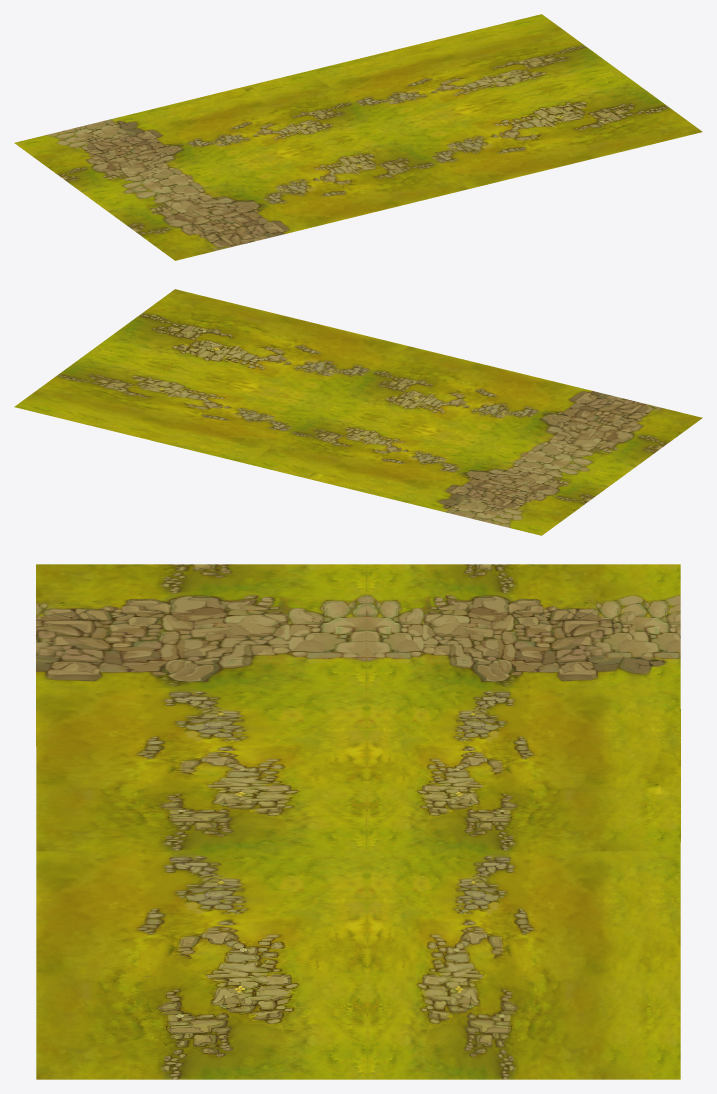
The model's file is sences_changbanpo_daolu001.FBX.
The picture shows the model from 3 angles, top to bottom: view 1: azimuth 30°, elevation 25°; view 2: azimuth 150°, elevation 25°; view 3: azimuth 270°, elevation 25°; orthographic projection. The views are drawn at different scales.
Visible parts, largest first — view 1: sences_changbanpo_daolu001.max01; view 2: sences_changbanpo_daolu001.max01; view 3: sences_changbanpo_daolu001.max01.
Part boxes in pixels (x1,y1,x2,y2): sences_changbanpo_daolu001.max01: (14,14,702,260); sences_changbanpo_daolu001.max01: (14,289,702,535); sences_changbanpo_daolu001.max01: (36,564,680,1079).
Size of the model in its own units: 51.29 by 27.14 by 0.1525.
